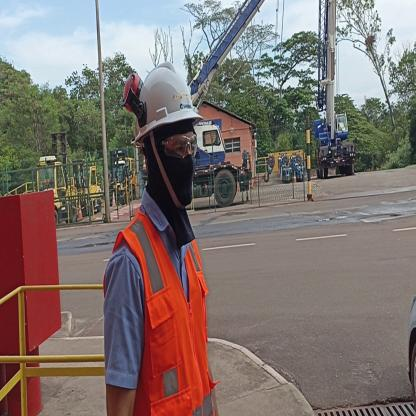Balaclava: (141, 127, 196, 221)
Capacete: (130, 58, 204, 125)
colete: (132, 220, 214, 416)
